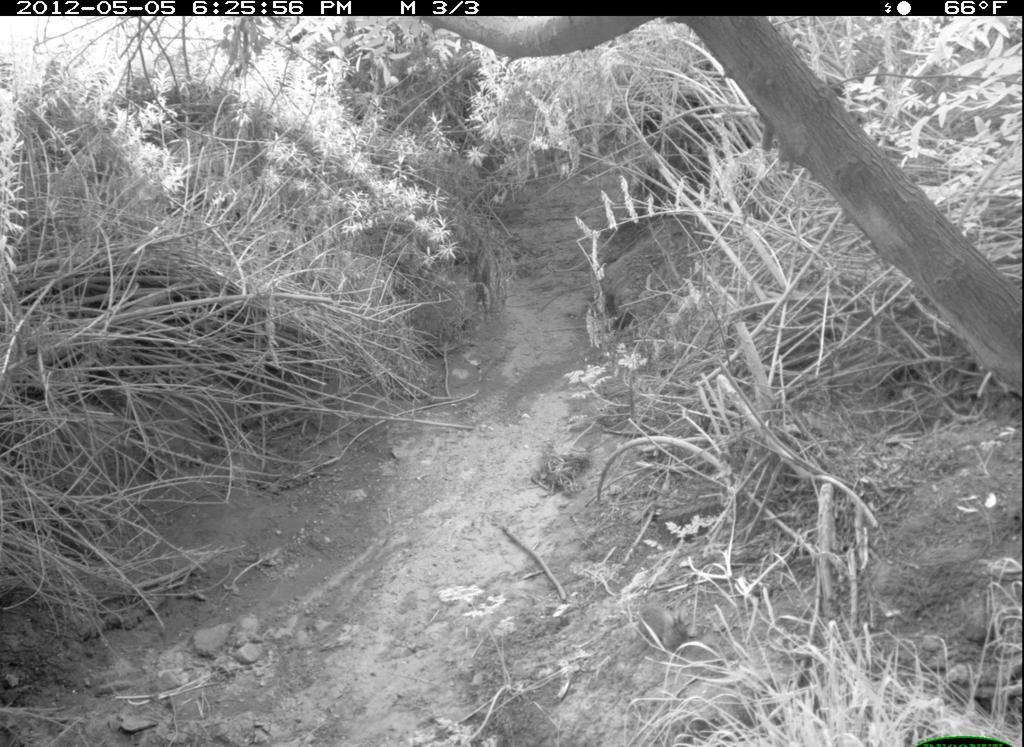rabbit: (631, 594, 695, 649)
